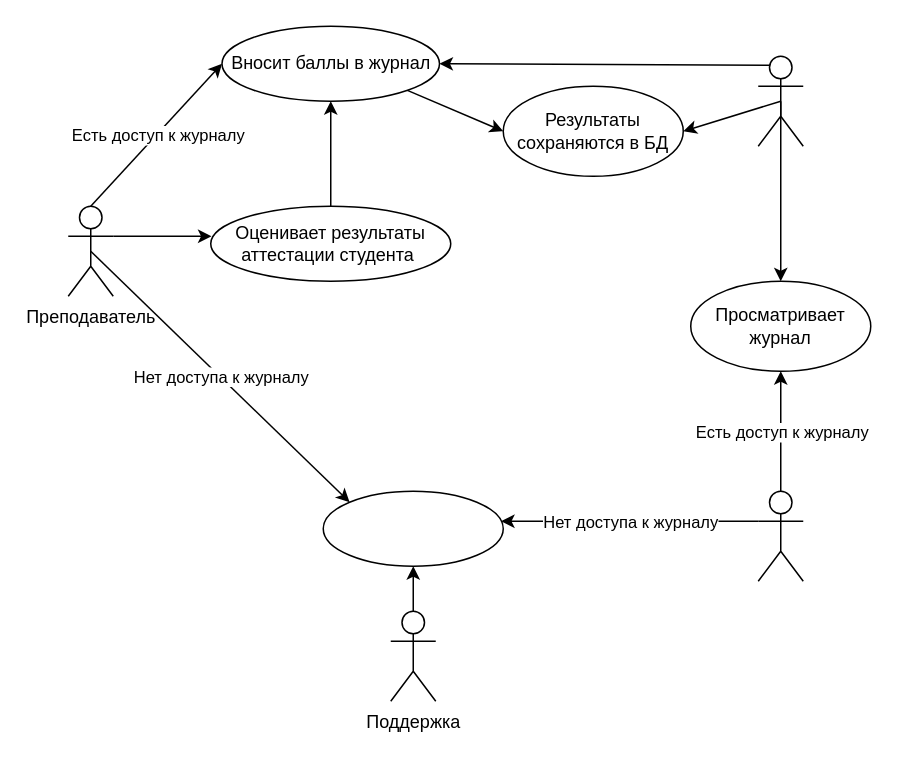
Some shapes in this 897 by 759 pixel diagram are drawn without their labels. The box of each missing label's shape, as (x1, y1, x2, y2) in pixels:
База данных: (757, 55, 803, 146)
Получает доступ к журналу: (322, 490, 503, 566)
Студент: (757, 490, 803, 581)
